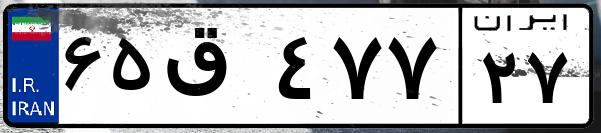2: (475, 38, 525, 113)
4: (270, 28, 330, 110)
5: (110, 28, 158, 98)
6: (57, 26, 110, 100)
7: (385, 28, 445, 110), (330, 28, 385, 110), (525, 38, 570, 115)
ق: (158, 20, 270, 120)
